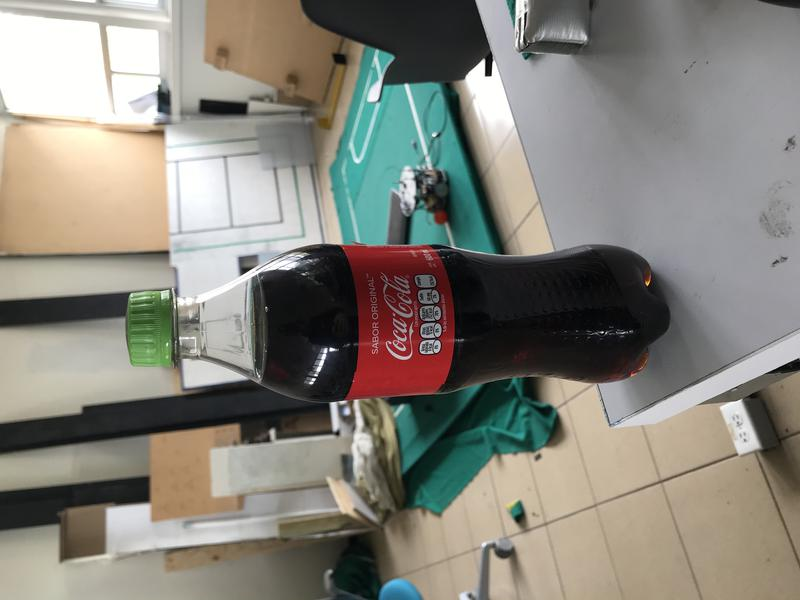coca_cola: (124, 243, 672, 404)
